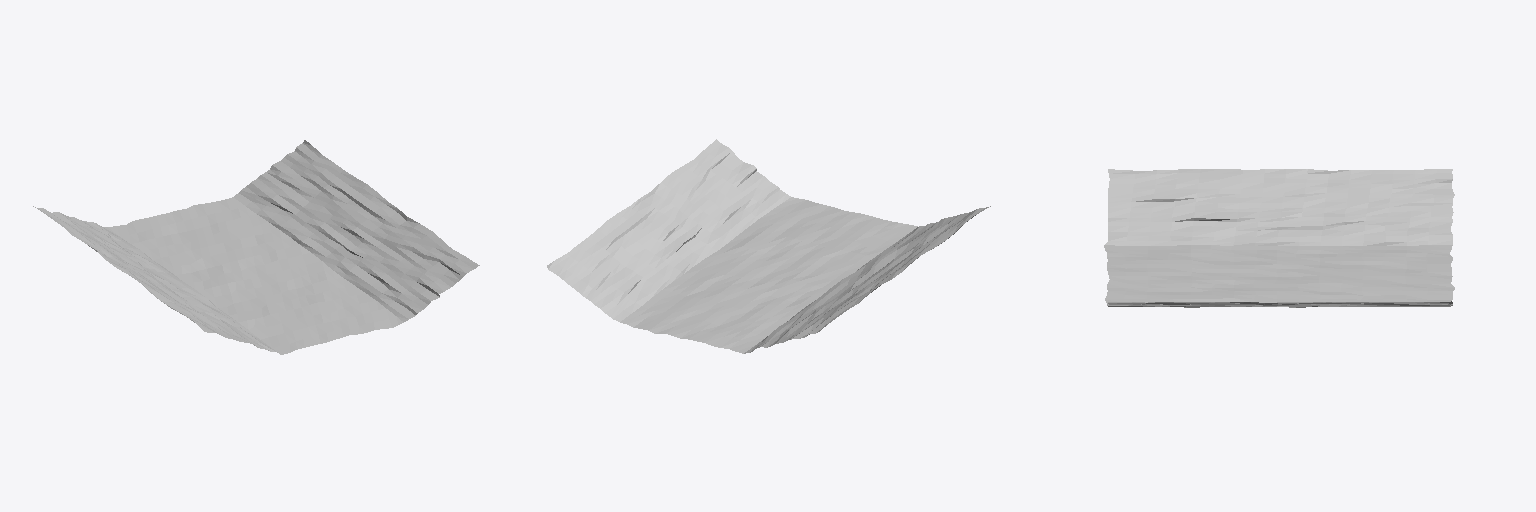
The model's file is mapobj.obj.
3 views of the same model, side by side, from view 1: azimuth 30°, elevation 25°; view 2: azimuth 150°, elevation 25°; view 3: azimuth 270°, elevation 25° (orthographic).
Parts seen in each view (by area): view 1: Plane; view 2: Plane; view 3: Plane.
Part boxes in pixels (bbox=[...]): Plane: bbox=[33, 140, 479, 354]; Plane: bbox=[547, 139, 990, 353]; Plane: bbox=[1104, 169, 1454, 307].
Size of the model in its own units: 33.72 by 4.81 by 37.31.